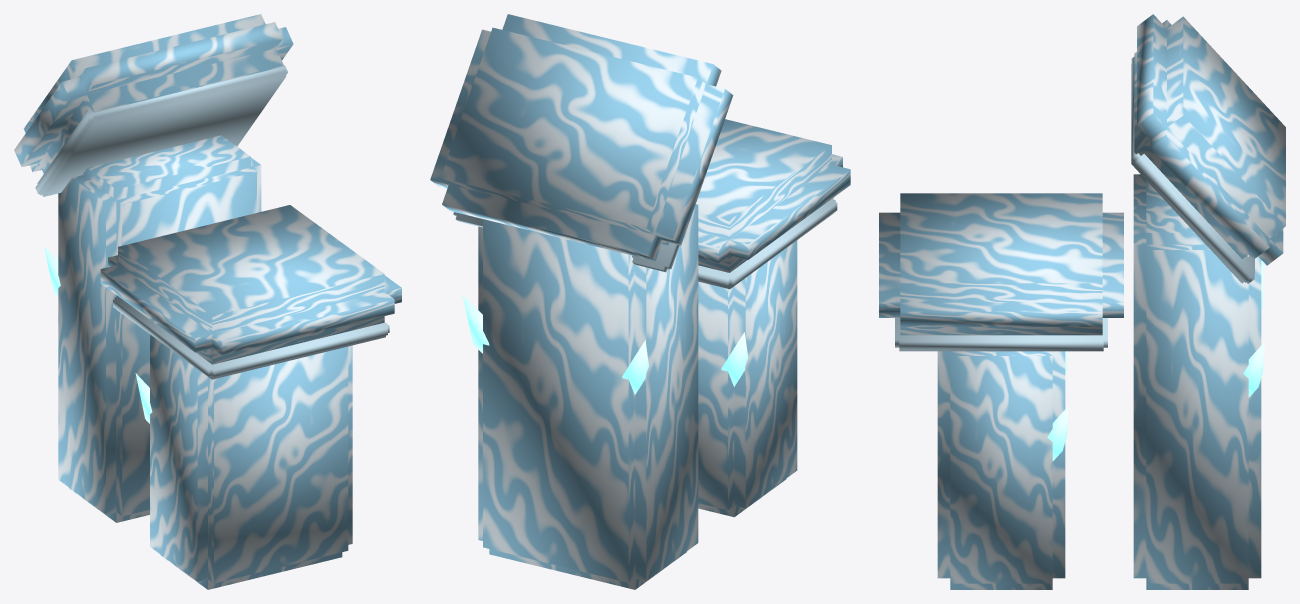
File: CrystalBench.glb
3 renders of one model, left to right at view 1: azimuth 30°, elevation 25°; view 2: azimuth 150°, elevation 25°; view 3: azimuth 270°, elevation 25°, orthographic. The views are drawn at different scales.
Parts seen in each view (by area): view 1: CrystalBench, CrystalBench_Glow; view 2: CrystalBench, CrystalBench_Glow; view 3: CrystalBench, CrystalBench_Glow.
Part boxes in pixels (x1,y1,x2,y2): CrystalBench: (14,14,401,589); CrystalBench_Glow: (44,246,152,423); CrystalBench: (430,14,850,589); CrystalBench_Glow: (462,295,748,394); CrystalBench: (879,14,1285,589); CrystalBench_Glow: (1047,260,1264,460).
Size of the model in its own units: 1.3 by 2.55 by 1.91.
2 materials, 1 textured.
